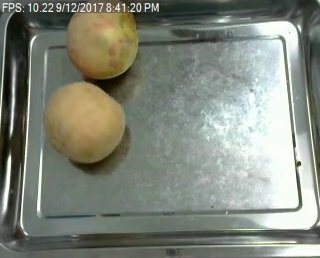Peach: (46, 80, 126, 164), (66, 1, 139, 79)
